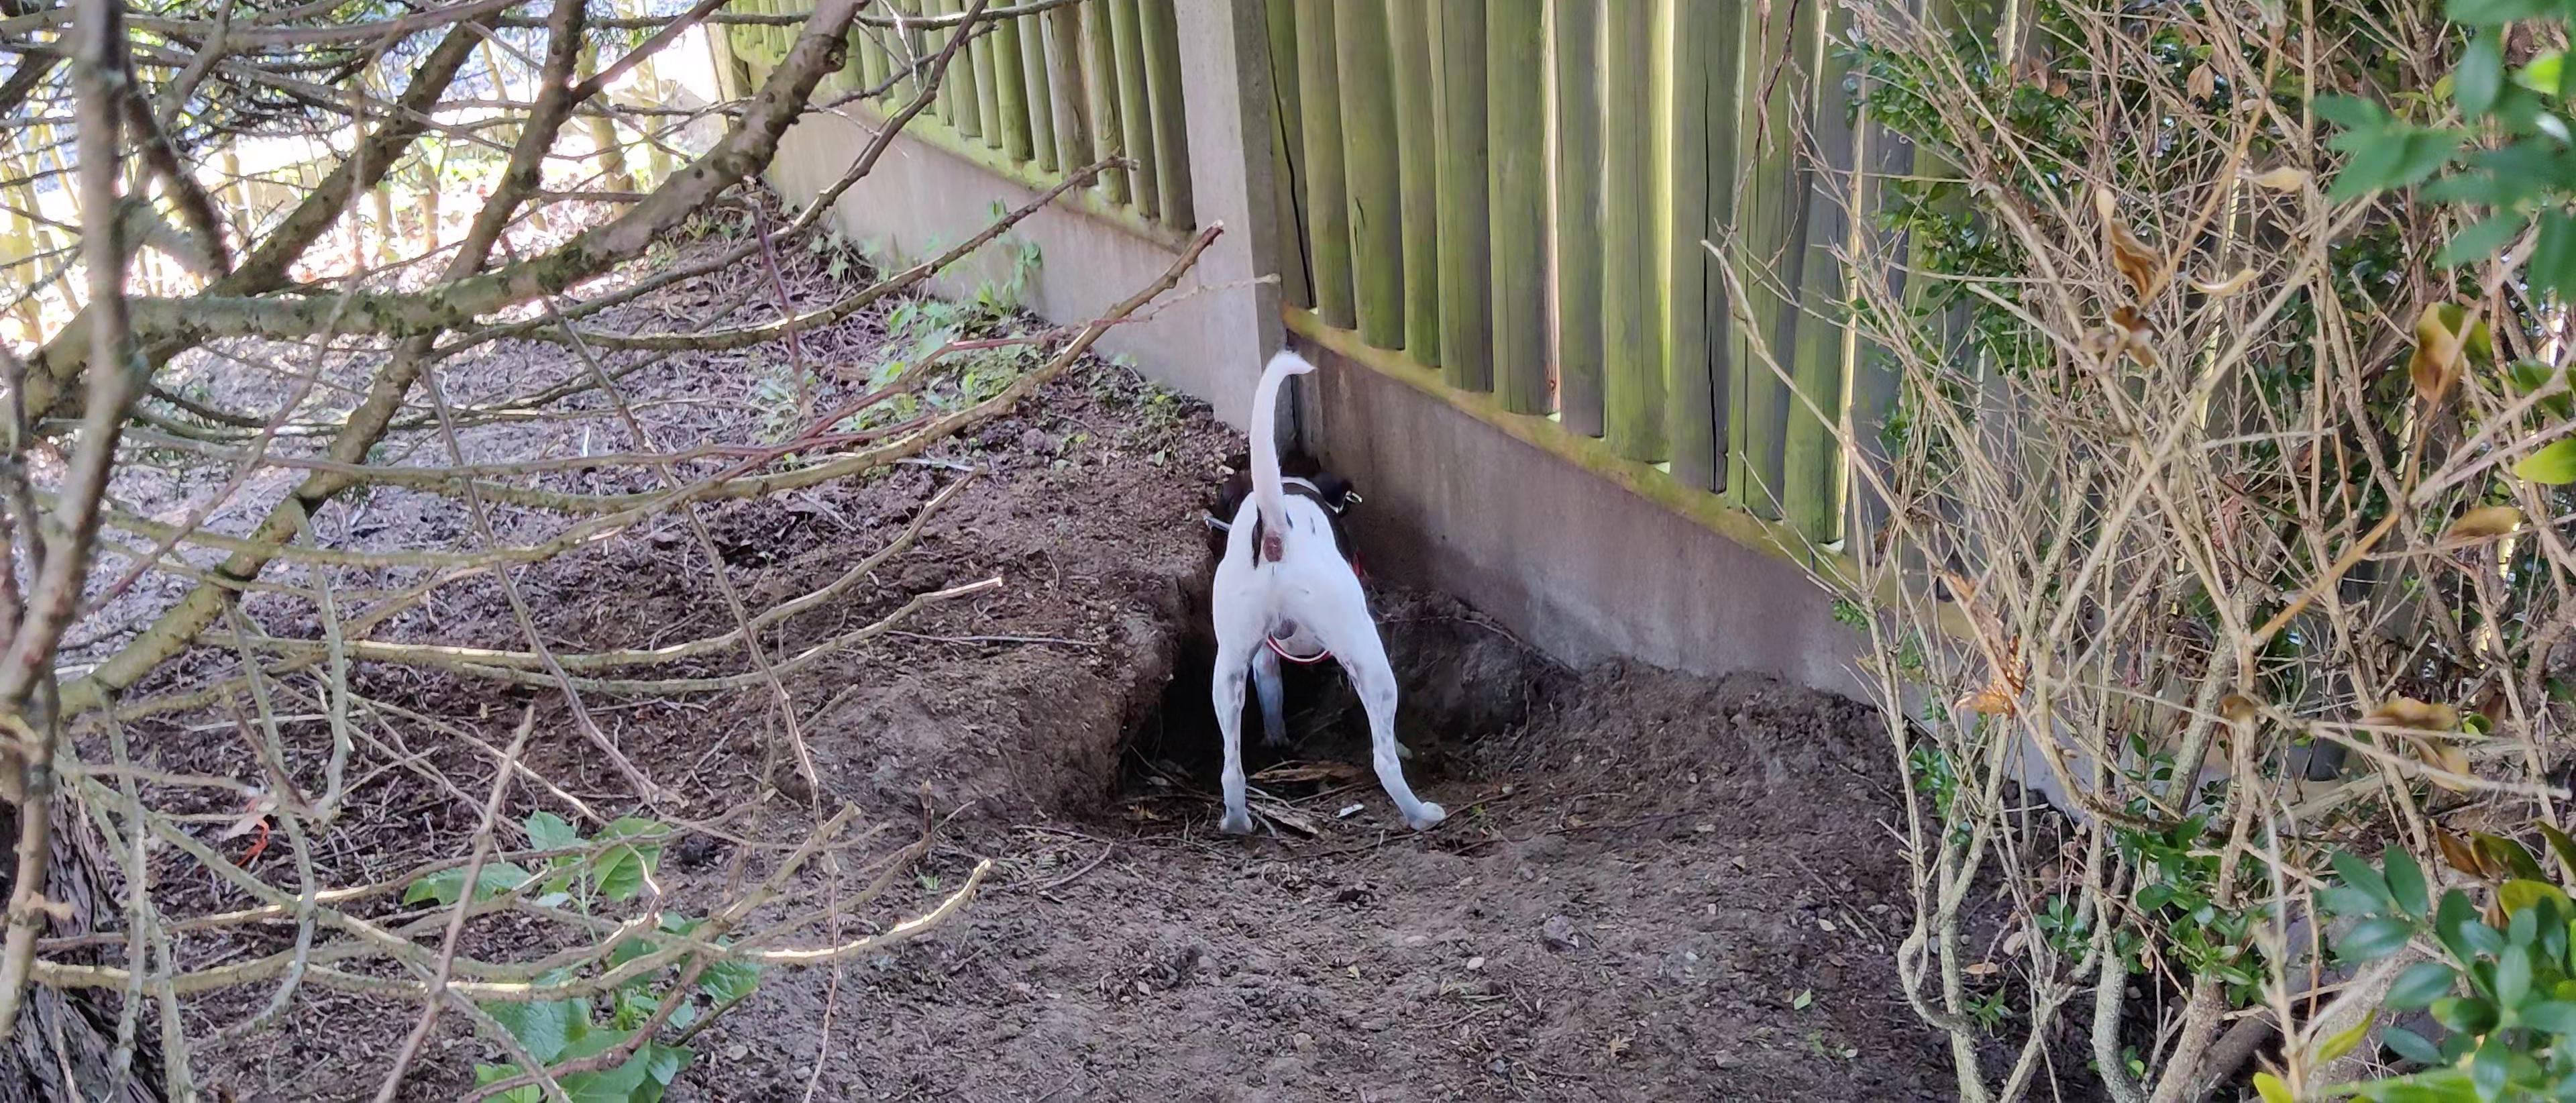Dog: (1163, 316, 1467, 851)
